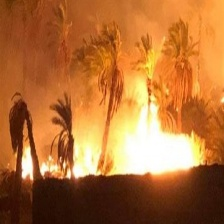fire: (117, 122, 199, 174), (21, 142, 99, 177)
